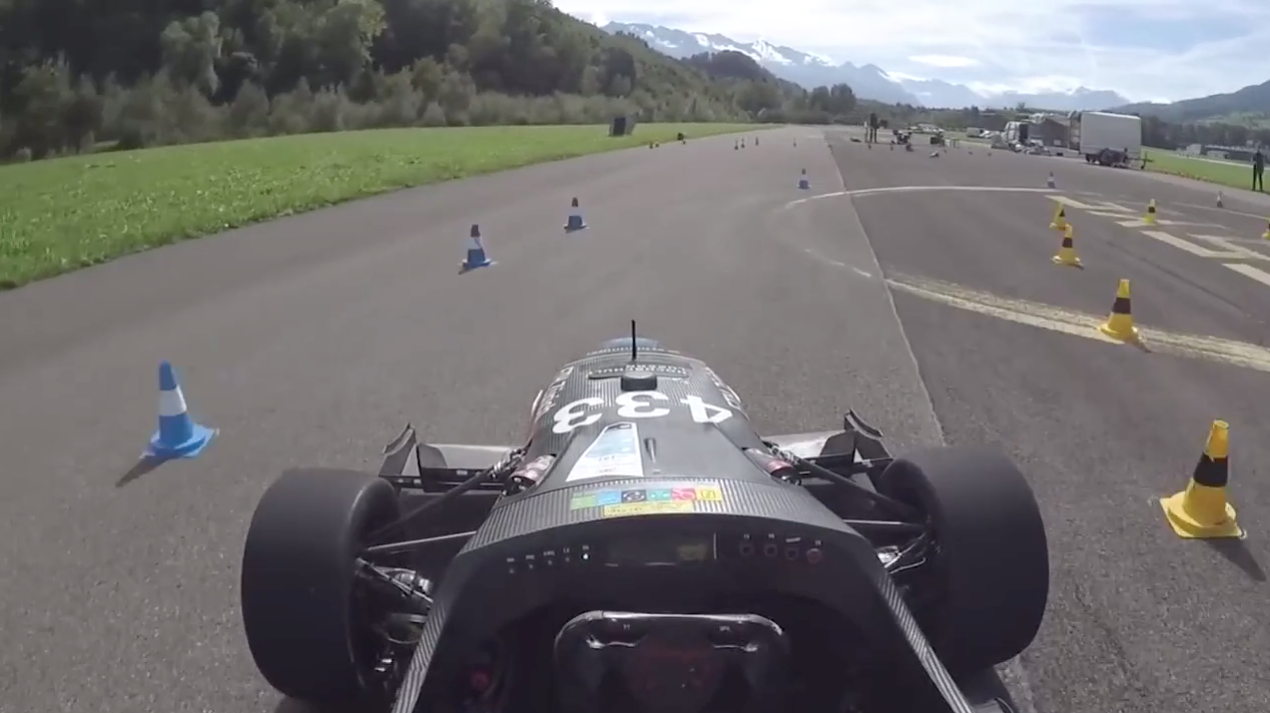lcone: (130, 352, 224, 467), (446, 219, 503, 276), (559, 192, 595, 233)
rcone: (1156, 413, 1251, 545), (1092, 276, 1146, 342), (1049, 223, 1088, 270)
